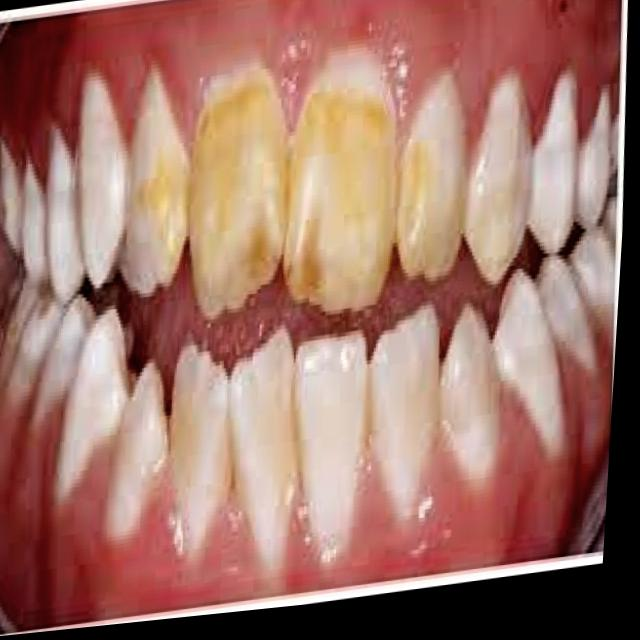tooth-discoloration: (286, 85, 397, 310), (190, 69, 286, 315), (131, 139, 187, 289)
